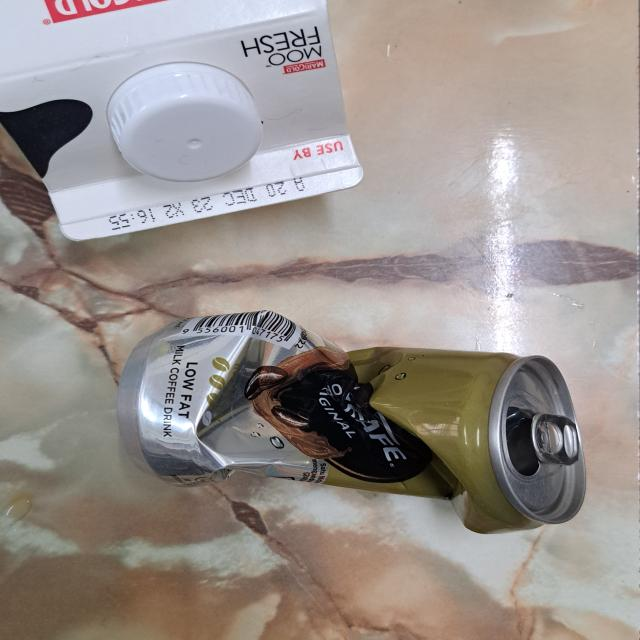can: (113, 308, 588, 538)
drink carton: (0, 0, 362, 236)
plastic bottle cap: (107, 65, 266, 185)
